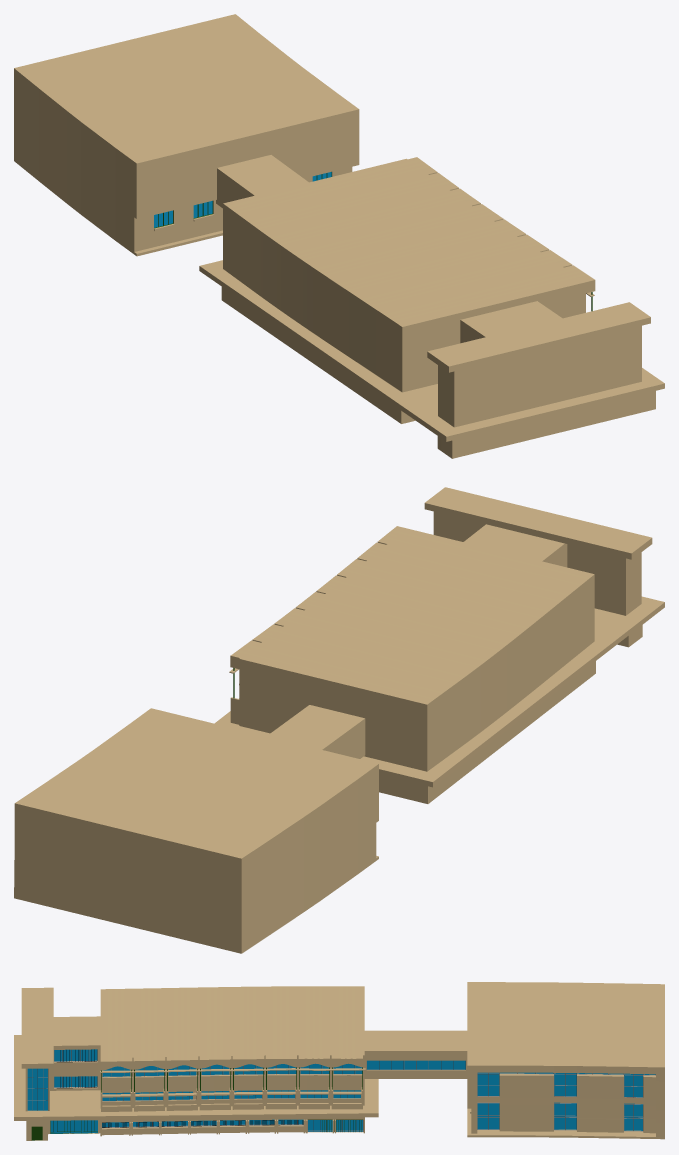
The picture shows the model from 3 angles, top to bottom: view 1: azimuth 30°, elevation 25°; view 2: azimuth 150°, elevation 25°; view 3: azimuth 270°, elevation 25°; orthographic projection. The views are drawn at different scales.
Parts seen in each view (by area): view 1: Cube.001; view 2: Cube.001; view 3: Cube.001, Cube.005, Cube.002, Cube.004, Cube.003.
Part boxes in pixels (box(x1,y1,x2,y2)): Cube.001: box(14, 14, 664, 458); Cube.001: box(14, 487, 664, 953); Cube.001: box(14, 982, 664, 1140); Cube.005: box(27, 1049, 655, 1133); Cube.002: box(28, 1049, 655, 1131); Cube.004: box(31, 1067, 362, 1140); Cube.003: box(57, 1049, 303, 1127).
Bounding box in the file's own units: 9492 × 3766 × 29752.
